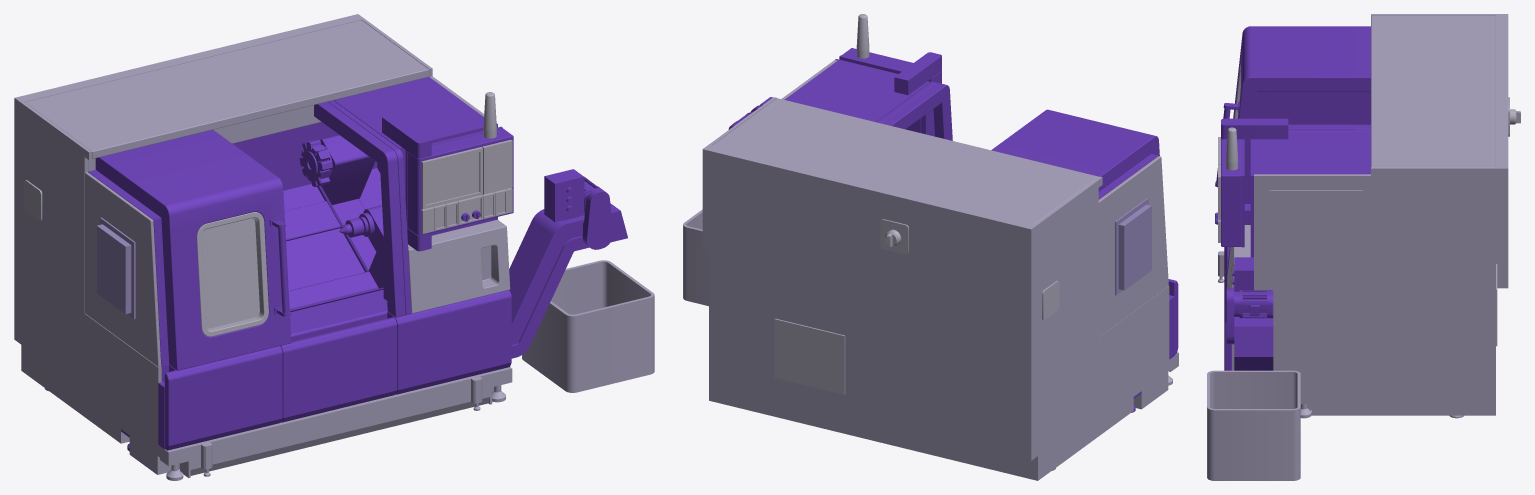
File: turning.glb
3 renders of one model, left to right at view 1: azimuth 30°, elevation 25°; view 2: azimuth 150°, elevation 25°; view 3: azimuth 270°, elevation 25°, orthographic. The views are drawn at different scales.
Visible parts, largest first — view 1: Plane.042, Plane.039, Cube.278, Cube.311, Cube.264, Cube.262, Cube.263, Cube.254, Cube.394, Plane.046, Cube.265, Plane.047 (+28 smaller); view 2: Cube.281, Cube.280, Cube.279, Plane.042, Cube.278, Cube.259, Plane.039, Plane.046, Plane.047, Plane, Plane.049, Plane.048 (+8 smaller); view 3: Cube.272, Plane.042, Cube.274, Cube.311, Plane.039, Cube.294, Cube.271, Plane, Cube.259, Plane.055, Cube.280, Cube.269 (+16 smaller).
Part boxes in pixels (left/top/right/bottom): Plane.042: left=25, top=20, right=429, bottom=171; Plane.039: left=95, top=129, right=291, bottom=370; Cube.278: left=21, top=102, right=91, bottom=390; Cube.311: left=522, top=260, right=654, bottom=392; Cube.264: left=164, top=346, right=282, bottom=450; Cube.262: left=280, top=317, right=397, bottom=422; Cube.263: left=394, top=290, right=511, bottom=394; Cube.254: left=157, top=367, right=512, bottom=469; Cube.394: left=232, top=122, right=381, bottom=290; Plane.046: left=85, top=172, right=161, bottom=367; Cube.265: left=408, top=219, right=510, bottom=313; Plane.047: left=84, top=314, right=161, bottom=444; Cube.281: left=921, top=198, right=1037, bottom=460; Cube.280: left=702, top=144, right=927, bottom=301; Cube.279: left=712, top=250, right=921, bottom=427; Plane.042: left=713, top=98, right=1098, bottom=223; Cube.278: left=1035, top=176, right=1102, bottom=455; Cube.259: left=709, top=376, right=1141, bottom=480; Plane.039: left=991, top=109, right=1159, bottom=191; Plane.046: left=1098, top=156, right=1168, bottom=336; Plane.047: left=1098, top=286, right=1169, bottom=410; Plane: left=784, top=61, right=928, bottom=132; Plane.049: left=774, top=318, right=845, bottom=394; Plane.048: left=1115, top=198, right=1151, bottom=295; Cube.272: left=1289, top=167, right=1433, bottom=391; Plane.042: left=1371, top=15, right=1495, bottom=167; Cube.274: left=1433, top=167, right=1495, bottom=391; Cube.311: left=1207, top=370, right=1300, bottom=480; Plane.039: left=1233, top=26, right=1370, bottom=118; Cube.294: left=1269, top=190, right=1363, bottom=307; Cube.271: left=1254, top=174, right=1378, bottom=320; Plane: left=1254, top=131, right=1370, bottom=174; Cube.259: left=1300, top=391, right=1495, bottom=415; Plane.055: left=1261, top=94, right=1370, bottom=124; Cube.280: left=1496, top=65, right=1508, bottom=263; Cube.269: left=1221, top=138, right=1241, bottom=246.
Size of the model in its own units: 3.32 by 2 by 2.01.
